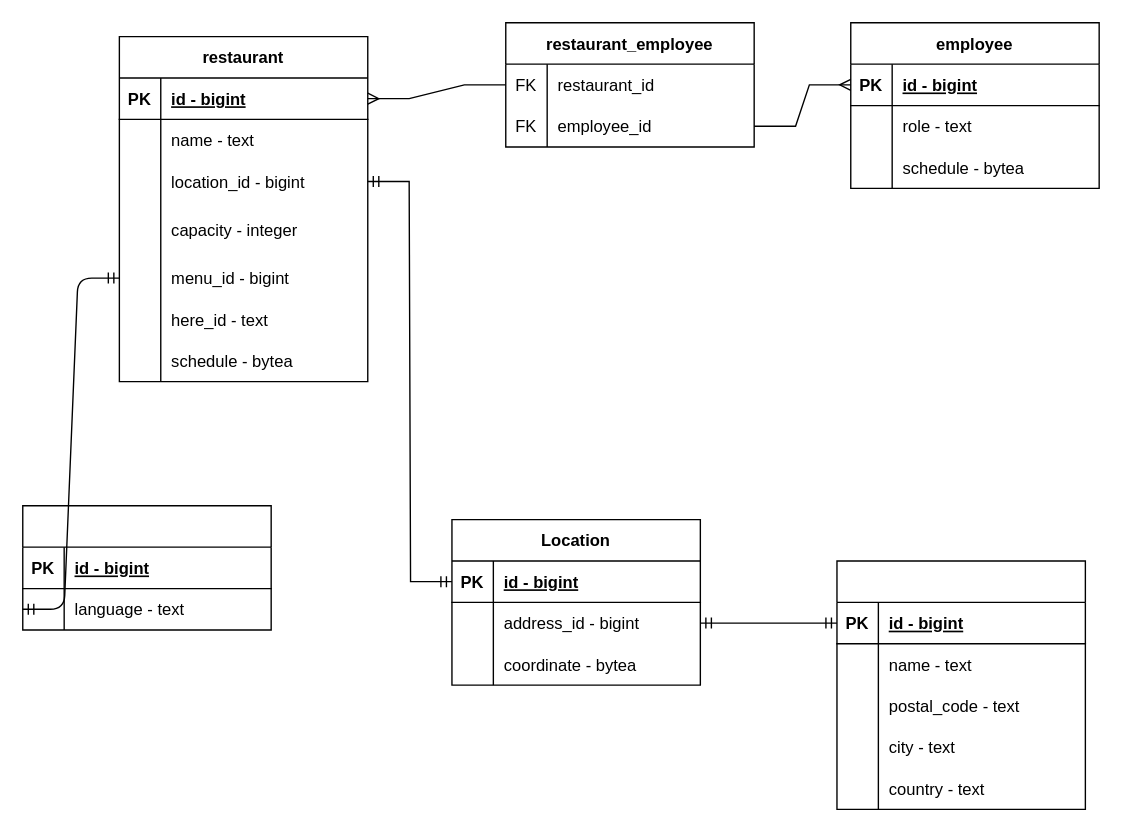
Image size: 1122x832. Some labels were removed from this diagram. The shapes that lost their labels are listed below. From the top down, each one's box as (x1, y1, x2, y2) in pixels, then its label:
(21, 504, 271, 630): Menu
(836, 560, 1085, 809): Address
